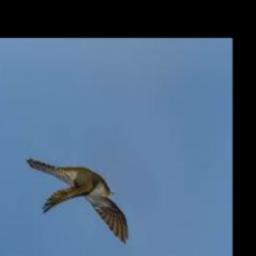Cuckoo: (25, 159, 128, 244)
